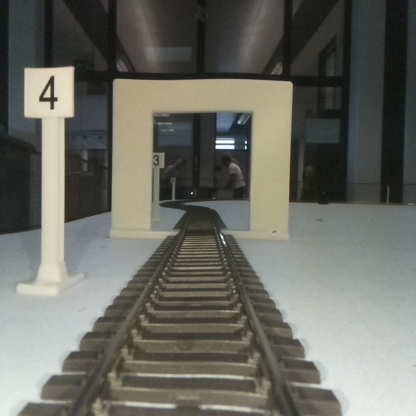white-info-4: (24, 67, 73, 293)
